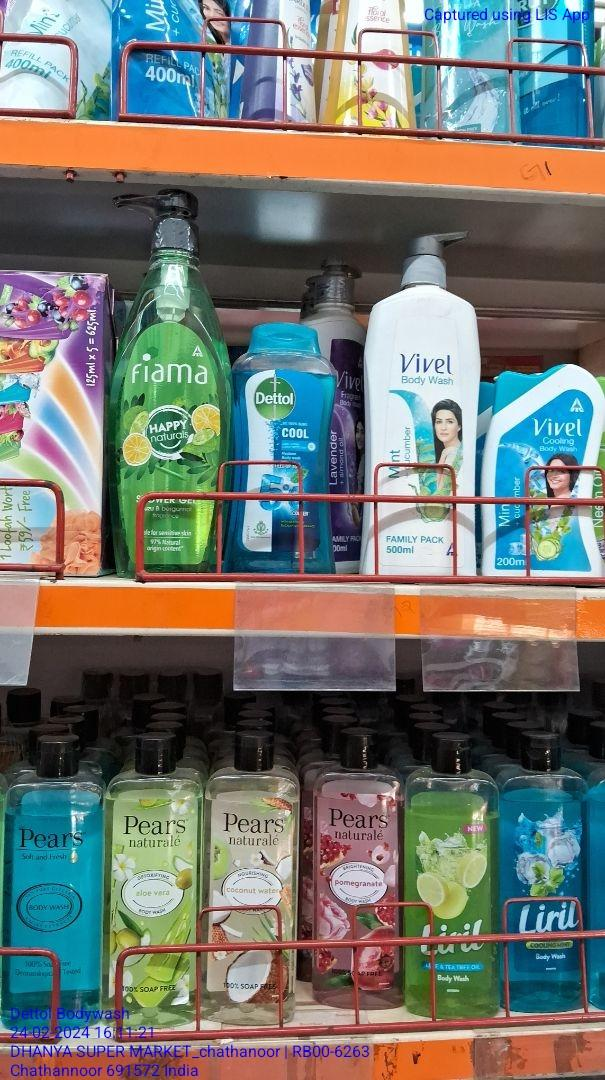Dettol_Bodywash_Cool: (224, 322, 337, 570)
Liril_Cooling_Mint_Body_Wash_250ML: (507, 741, 583, 1011)
Liril_Lime_and_Tea_Tree_Oil_Body_Wash_250ML: (403, 741, 502, 1019)
Pears_Naturale_Aloe_Vera_Body_Wash_250ML: (99, 734, 200, 1025)
Pears_Pure_Glycerin_and_Mint_Extracts_Body_Wash_250ML: (3, 731, 96, 1026)
